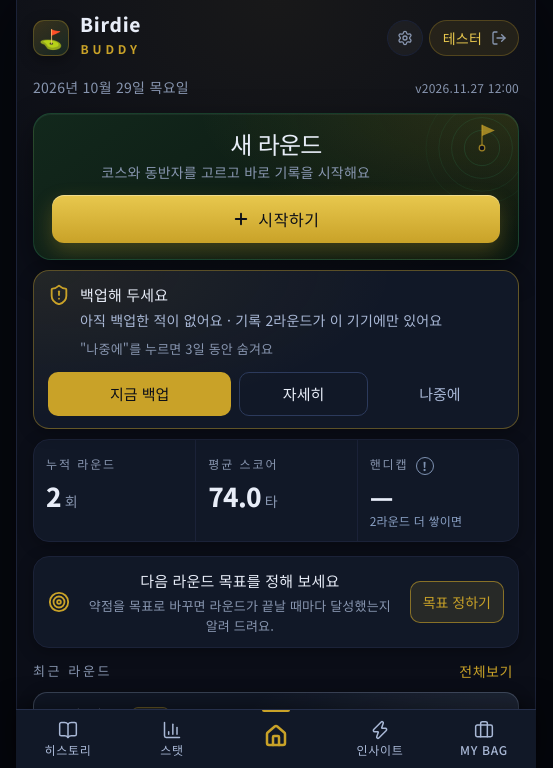
9홀 라운드 › 9홀 라운드의 리포트는 히스토리에서 열린다 (통계에서 빠져도 기록은 남는다)
Expected: the heading "새 라운드" is shown, 230,126 -> 322,161
What coordinates should you click on to do the following:
click the button titled "히스토리"
I would click on:
 (68, 739)
Its box is 16,710 -> 120,767.
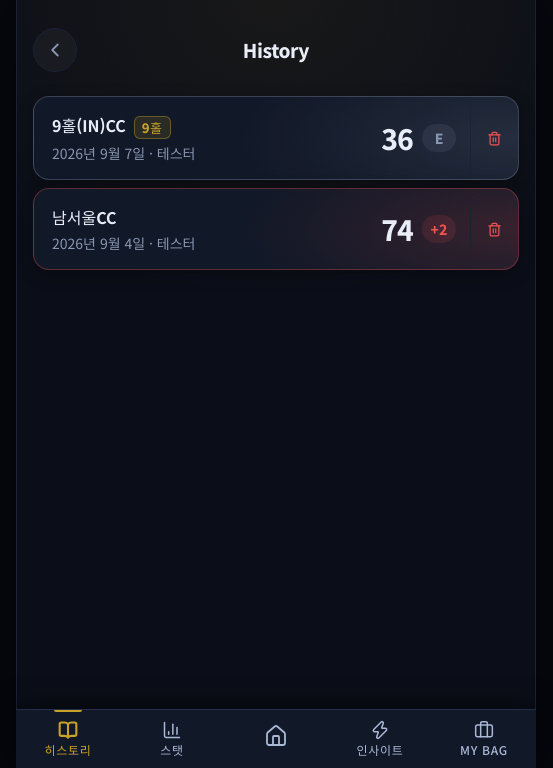
What coordinates should you click on to do the following:
click the text "9홀(IN)CC"
I would click on:
 (111, 126)
Its box is 52,113 -> 171,139.
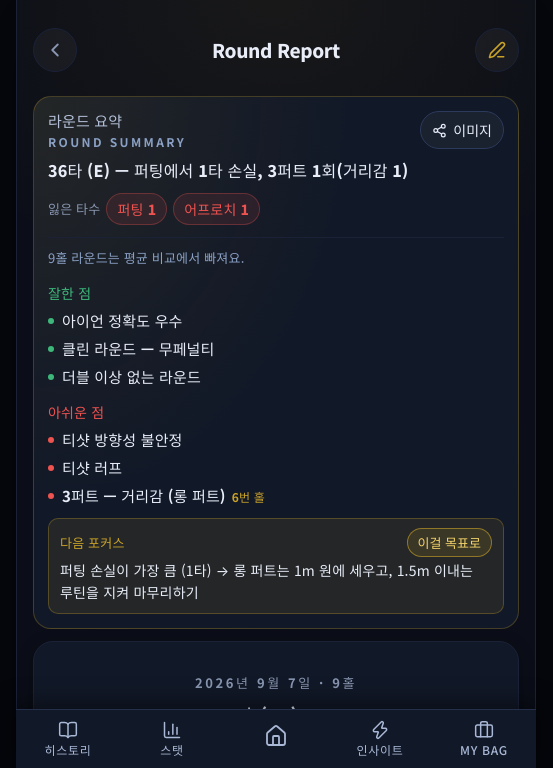
Expected: the text "Round Report" is shown, 212,37 -> 340,63
Expected: the text "· 9홀" is shown, 313,673 -> 357,692
